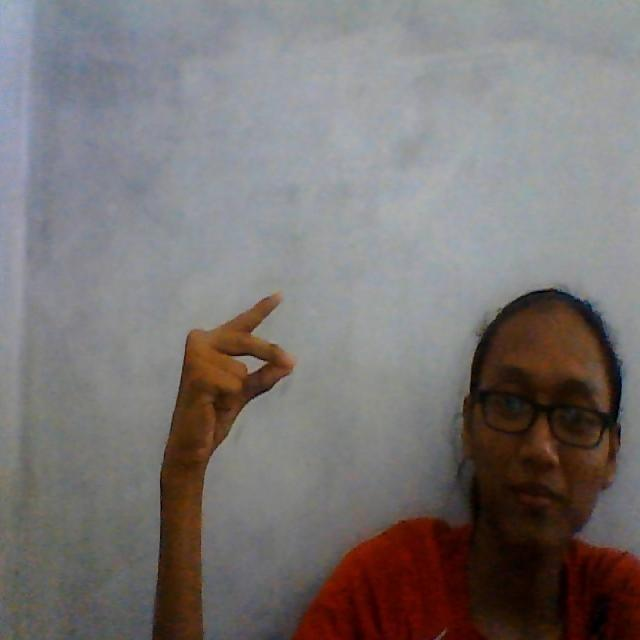R: (154, 286, 304, 469)
